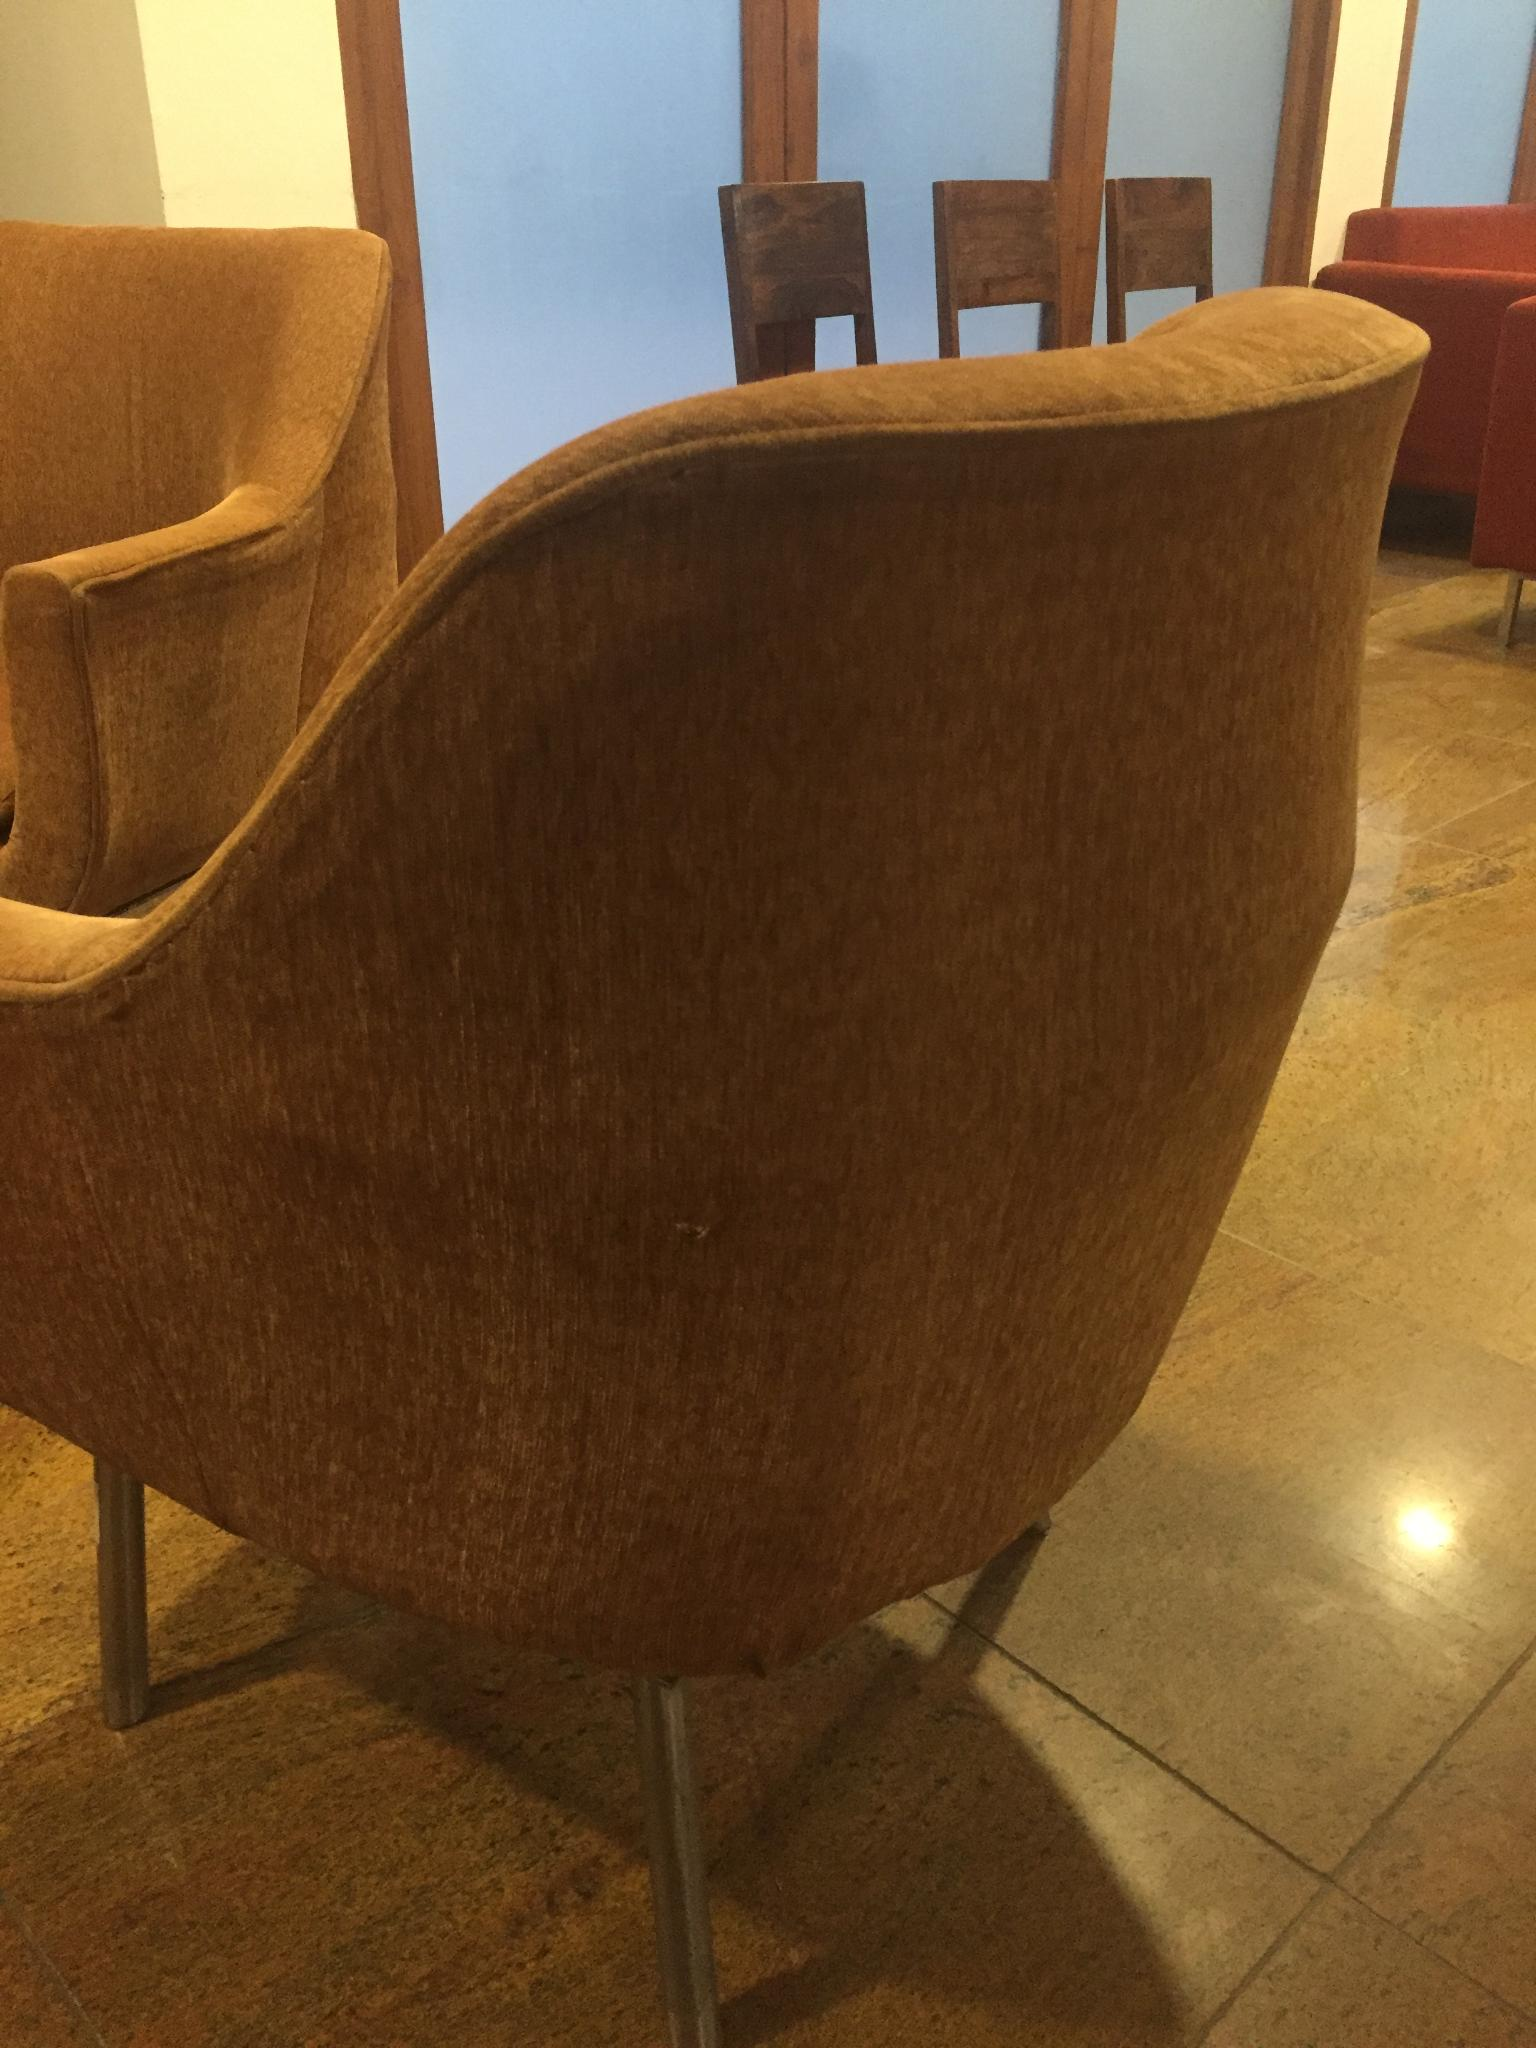chair: (0, 290, 1455, 1983), (0, 218, 400, 916), (716, 179, 878, 385), (1468, 293, 1536, 647), (931, 179, 1060, 360), (1104, 176, 1213, 343)
